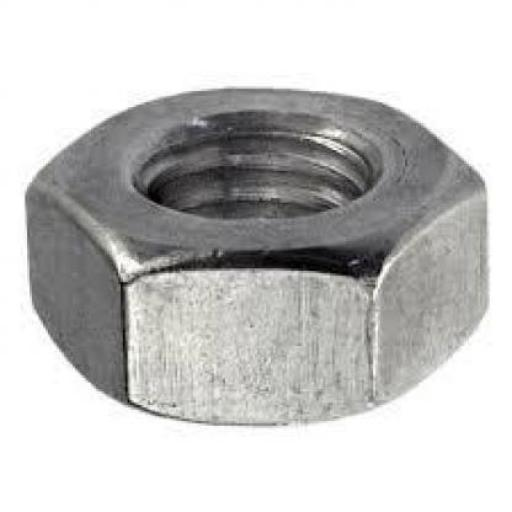nut: (25, 89, 491, 427)
